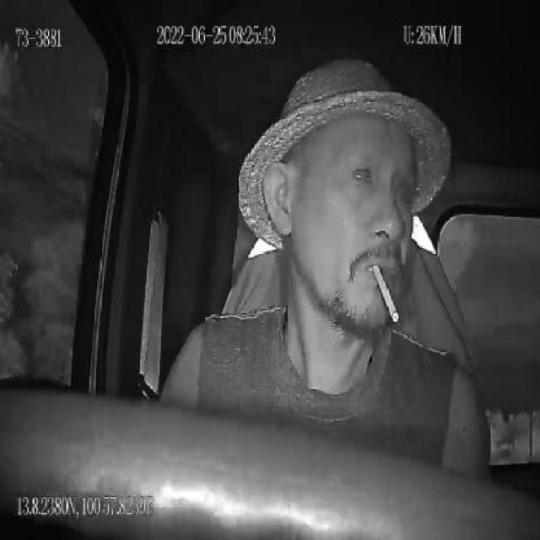smoking: (371, 264, 399, 325)
